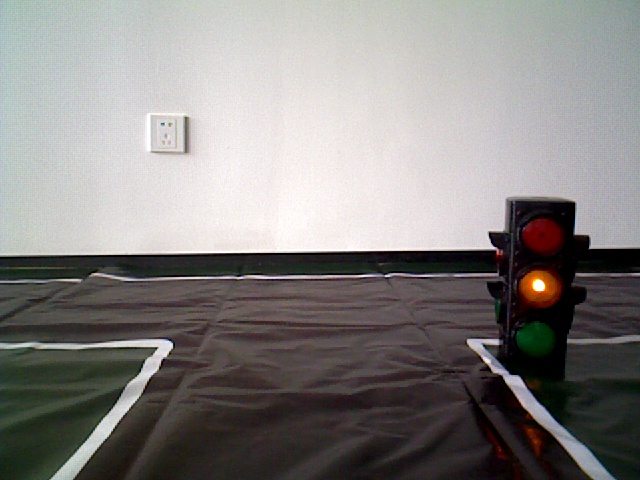yellow: (507, 197, 572, 367)
